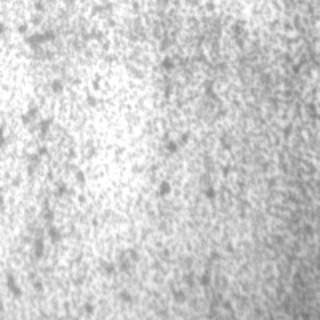pitted_surface: (7, 19, 237, 299), (224, 0, 314, 316)
